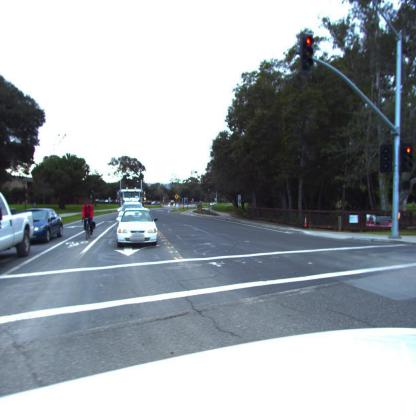bicycle: (83, 218, 95, 238)
car: (0, 191, 33, 273), (15, 208, 64, 244), (116, 209, 160, 245)
person: (81, 201, 95, 235)
traffic light: (300, 34, 314, 72), (381, 141, 394, 173), (400, 144, 414, 172)
truck: (119, 189, 144, 214)
